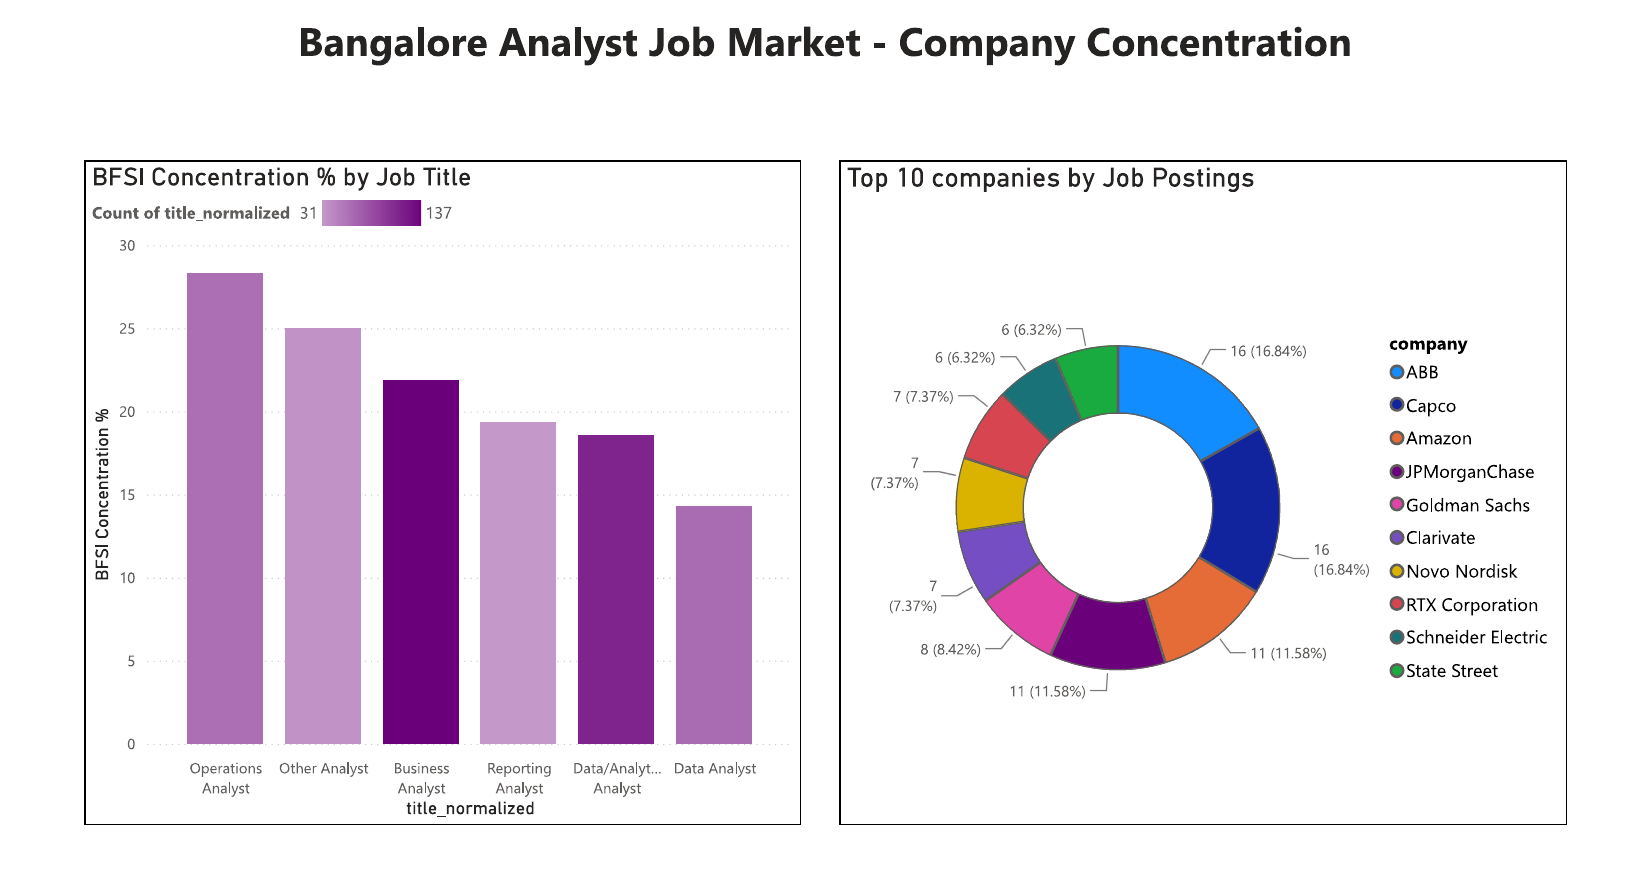

The dashboard page shown, as its layout file describes it:
{"tool":"powerbi","page":{"name":"Company_Concentration","canvas":[1280,720],"ordinal":3},"visuals":[{"type":"textbox","box":[32.8,41.3,1213,59.9],"z":0},{"type":"donutChart","title":"Top 10 companies by Job Postings","fields":{"Category":["jobs.company"],"Y":["Count(jobs.job_id)"]},"box":[650.5,165.1,585.7,534.4],"z":2000},{"type":"columnChart","title":"BFSI Concentration % by Job Title","fields":{"Category":["jobs.title_normalized"],"Y":["jobs.BFSI Concentration %"]},"box":[44,165.1,576,534.4],"z":3000}]}

Visuals, with their boxes on the page's 1280x720 design canvas (x1, y1, x2, y2). These are canvas units, not pixel positions in the 1650x887 screenshot, which may show the page scaled, cropped or inside an application window:
textbox: box(33, 41, 1246, 101)
"Top 10 companies by Job Postings" donutChart: box(650, 165, 1236, 700)
"BFSI Concentration % by Job Title" columnChart: box(44, 165, 620, 700)
